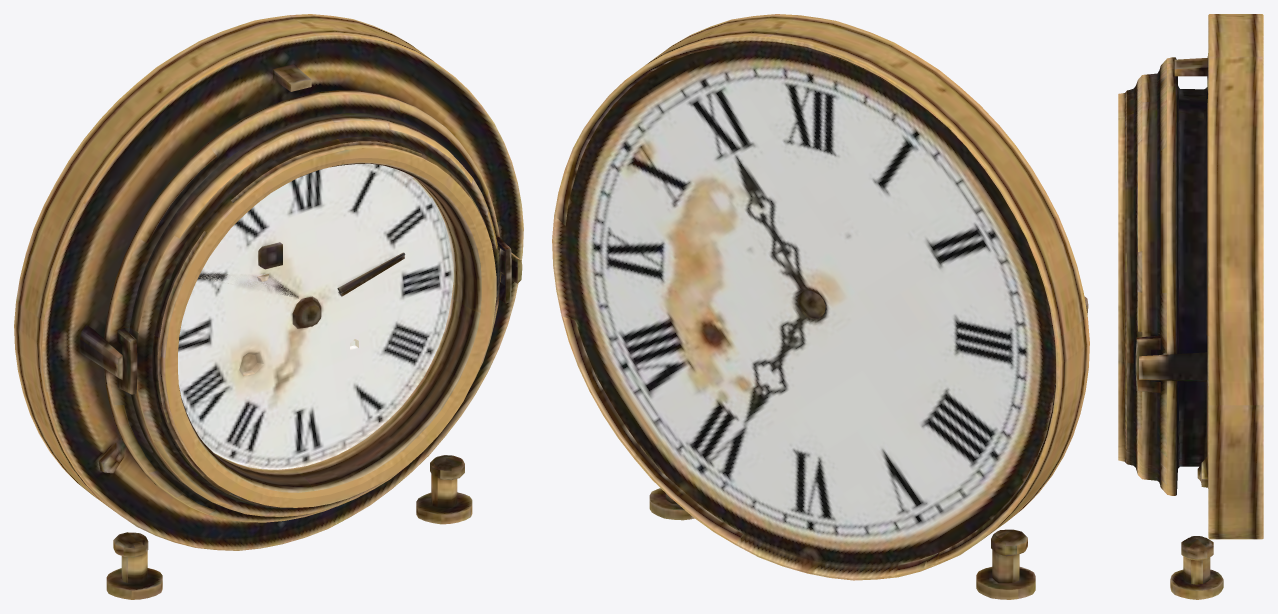
File: wreck_clock.glb
3 views of the same model, side by side, from view 1: azimuth 30°, elevation 25°; view 2: azimuth 150°, elevation 25°; view 3: azimuth 270°, elevation 25° (orthographic). The views are drawn at different scales.
Visible parts, largest first — view 1: mesh_node; view 2: mesh_node; view 3: mesh_node.
Part boxes in pixels (<box>): mesh_node: <box>14,14,523,599</box>; mesh_node: <box>552,14,1089,599</box>; mesh_node: <box>1118,14,1263,599</box>.
Size of the model in its own units: 1.91 by 1.91 by 0.5245.
1 material, 1 textured.
